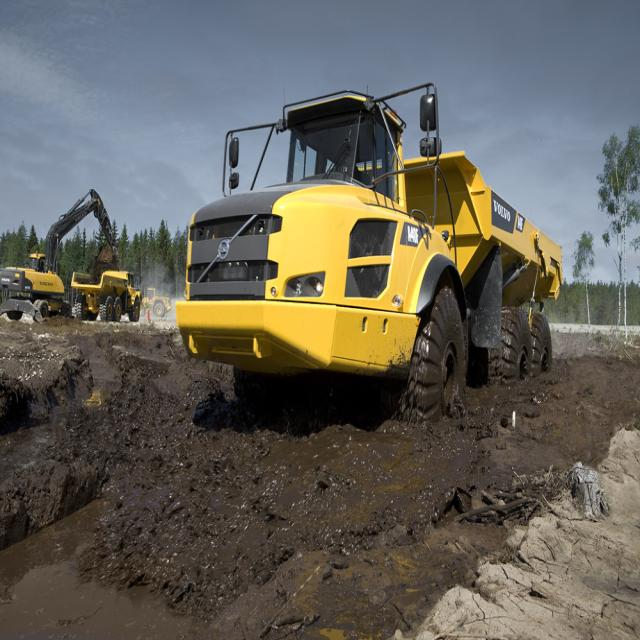dump_truck: (168, 92, 582, 432), (70, 259, 147, 330)
